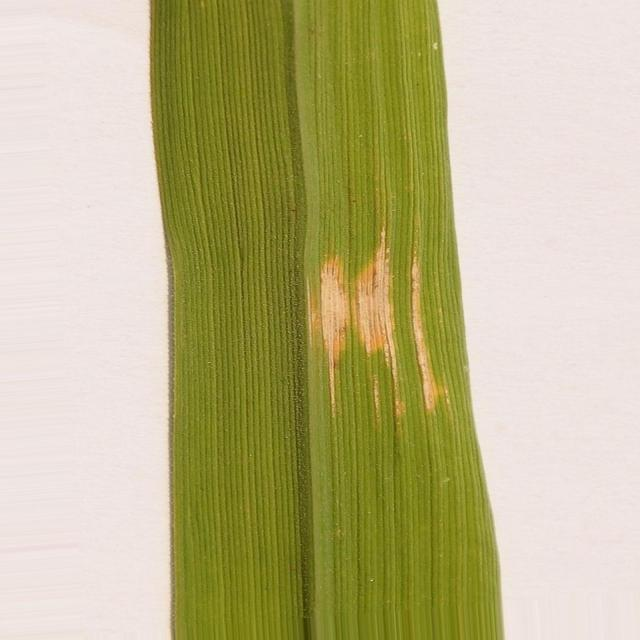Bacterial_Leaf_Blight: (356, 239, 396, 378), (320, 259, 350, 413), (410, 252, 438, 412), (374, 376, 380, 424)
